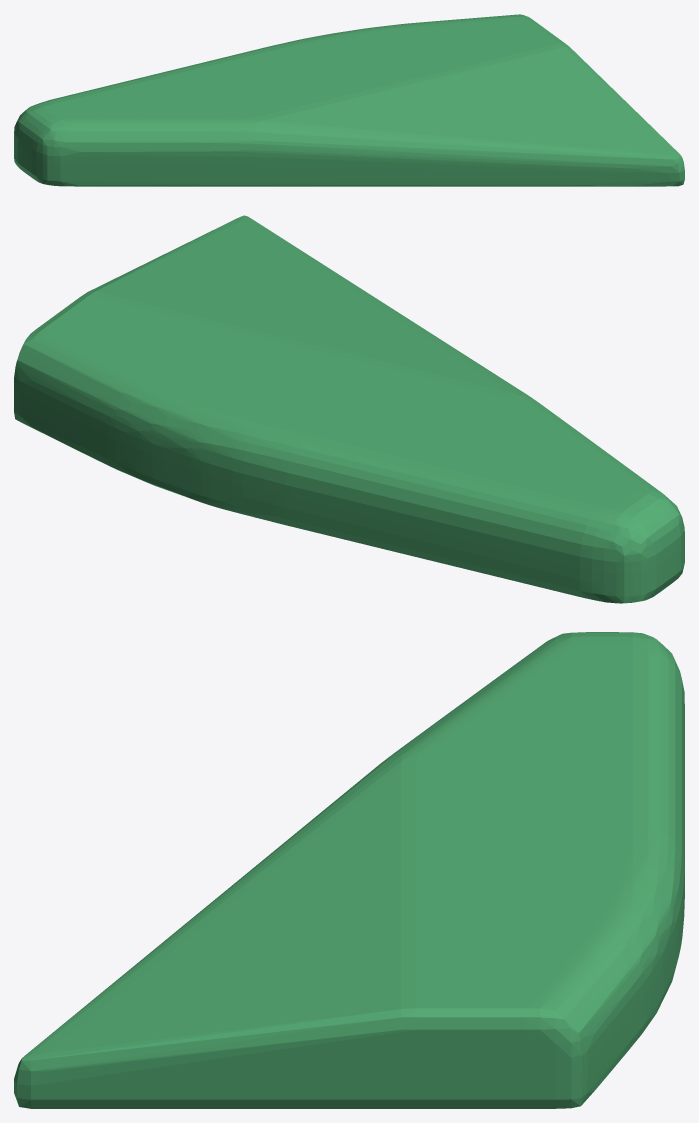
File: left_ankle_link_part_3.obj
3 renders of one model, top to bottom at view 1: azimuth 30°, elevation 25°; view 2: azimuth 150°, elevation 25°; view 3: azimuth 270°, elevation 25°, orthographic. The views are drawn at different scales.
Bounding box in the file's own units: 0.0764 × 0.00887 × 0.0543.
